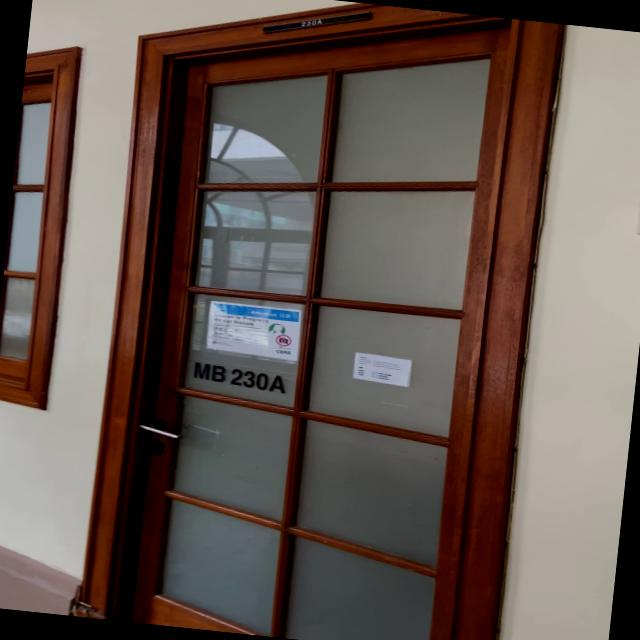room230A: (284, 17, 329, 29)
room230AWindow: (188, 357, 292, 397)
